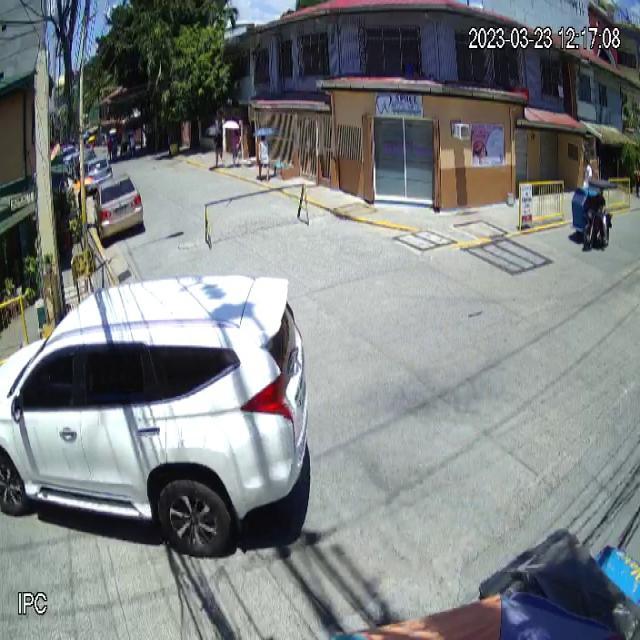Car: (0, 271, 309, 554), (93, 173, 144, 241)
